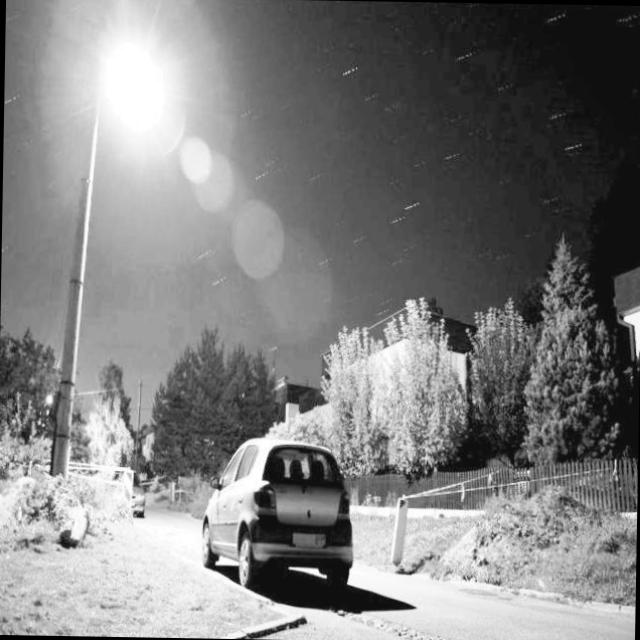Car: (191, 421, 356, 618), (106, 454, 148, 530)
